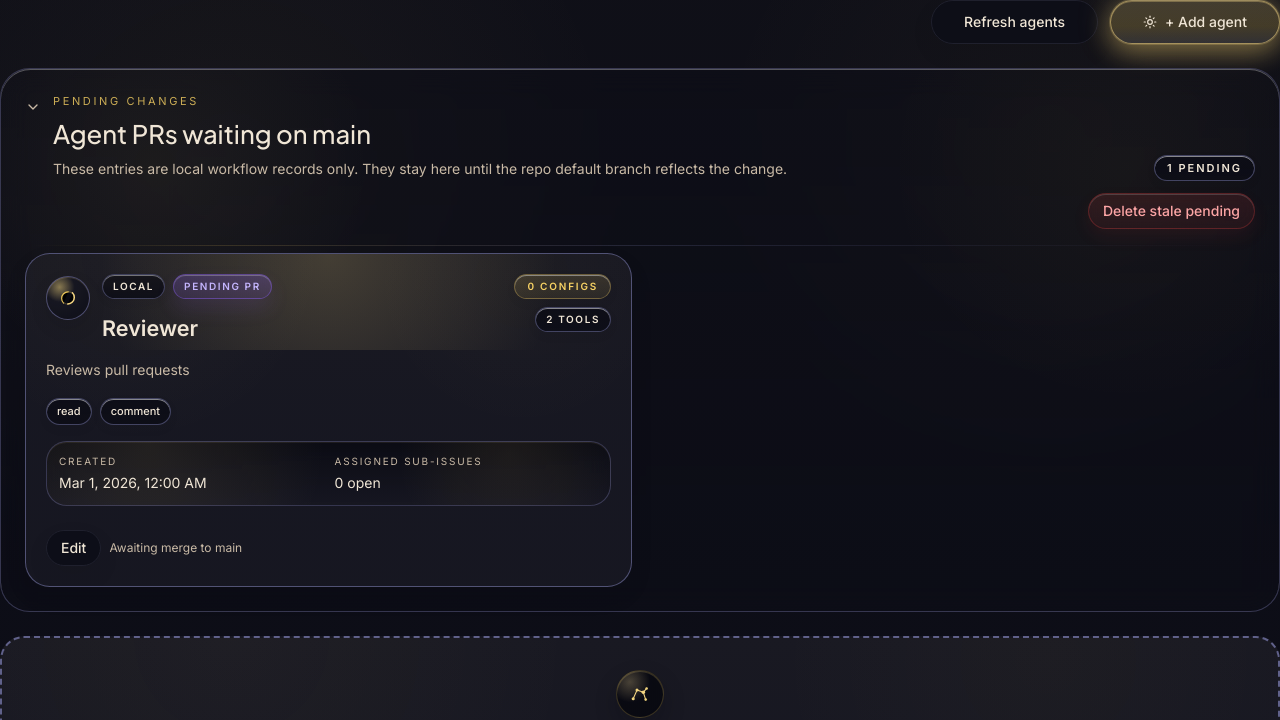
Test case: AgentsPanel › collapses and expands the Pending Changes section
The width and height of the screenshot is (1280, 720).
Expected: the text "Pending changes" is shown, [53,94,199,108]
Expected: the heading "Agent PRs waiting on main" is shown, [53,116,371,150]
Click the button "Agent PRs waiting on main" at (126, 101), box [25,93,1255,182]
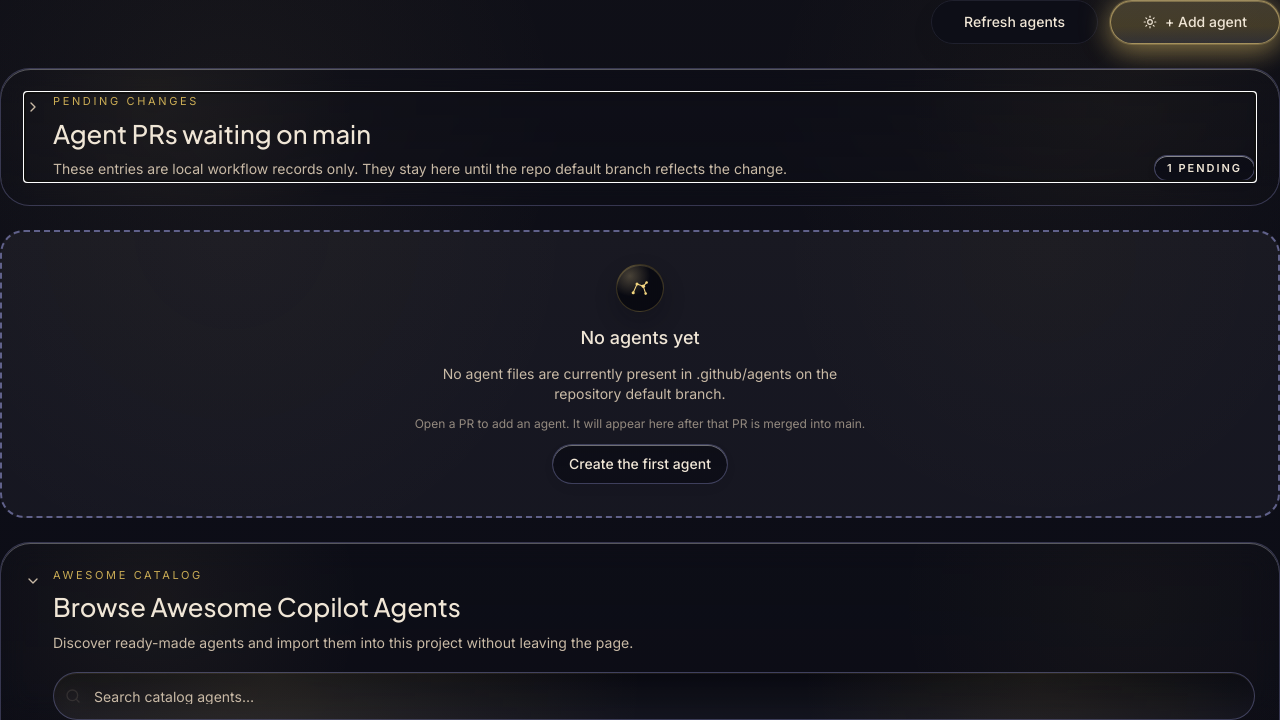
Expected: the heading "Reviewer" is gone
Click the button "Agent PRs waiting on main" at (126, 101), box [25,93,1255,182]
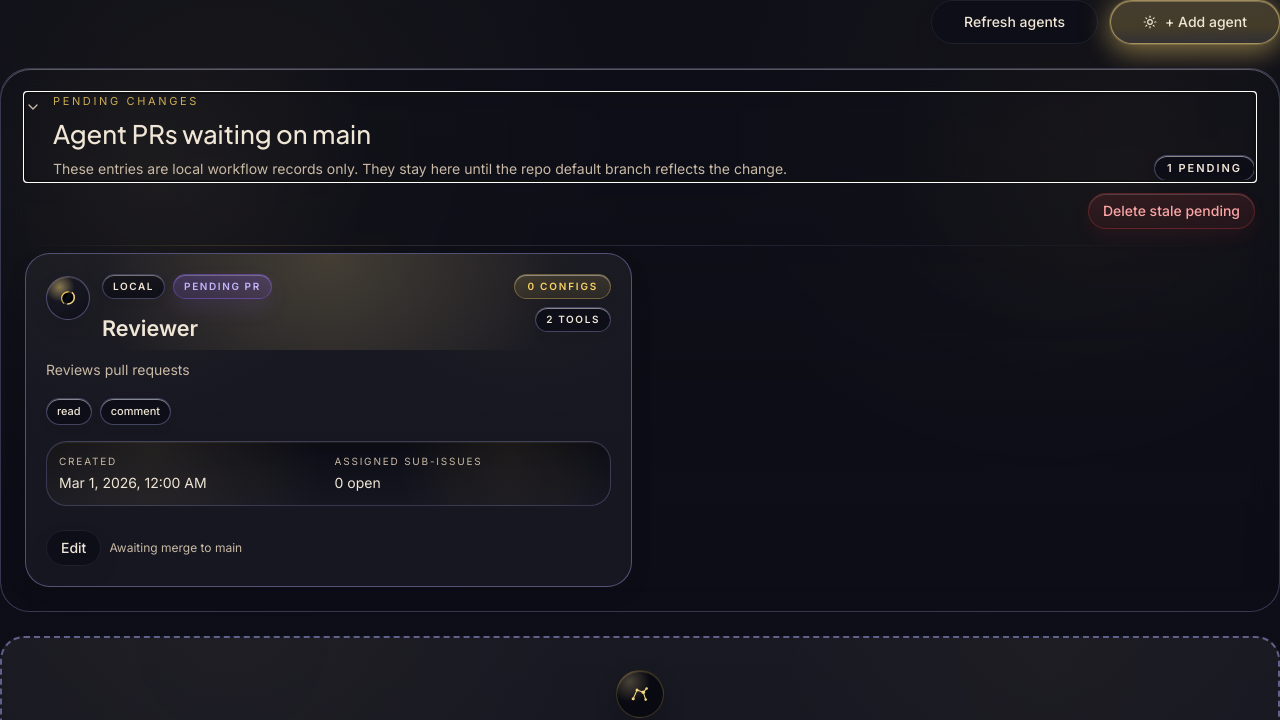
Expected: the heading "Reviewer" is shown, [102,316,198,342]
